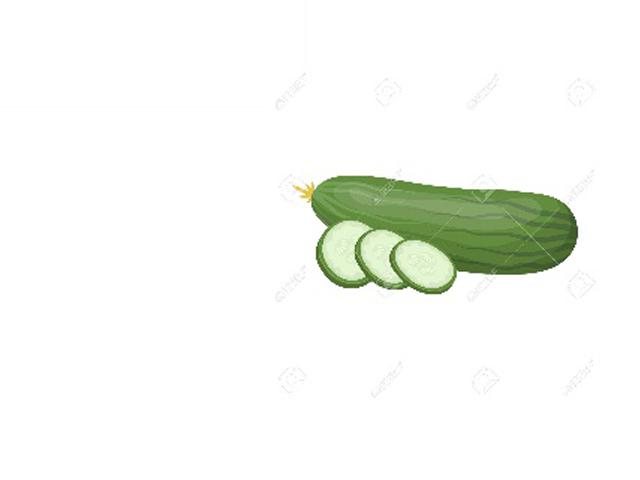cucumber: (295, 176, 580, 275)
